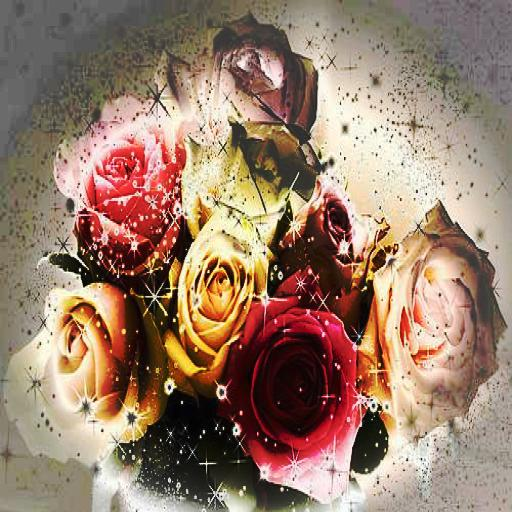rose: (377, 191, 504, 432), (10, 274, 168, 464), (228, 298, 360, 476), (49, 113, 179, 278), (162, 222, 263, 396), (276, 178, 360, 275)
